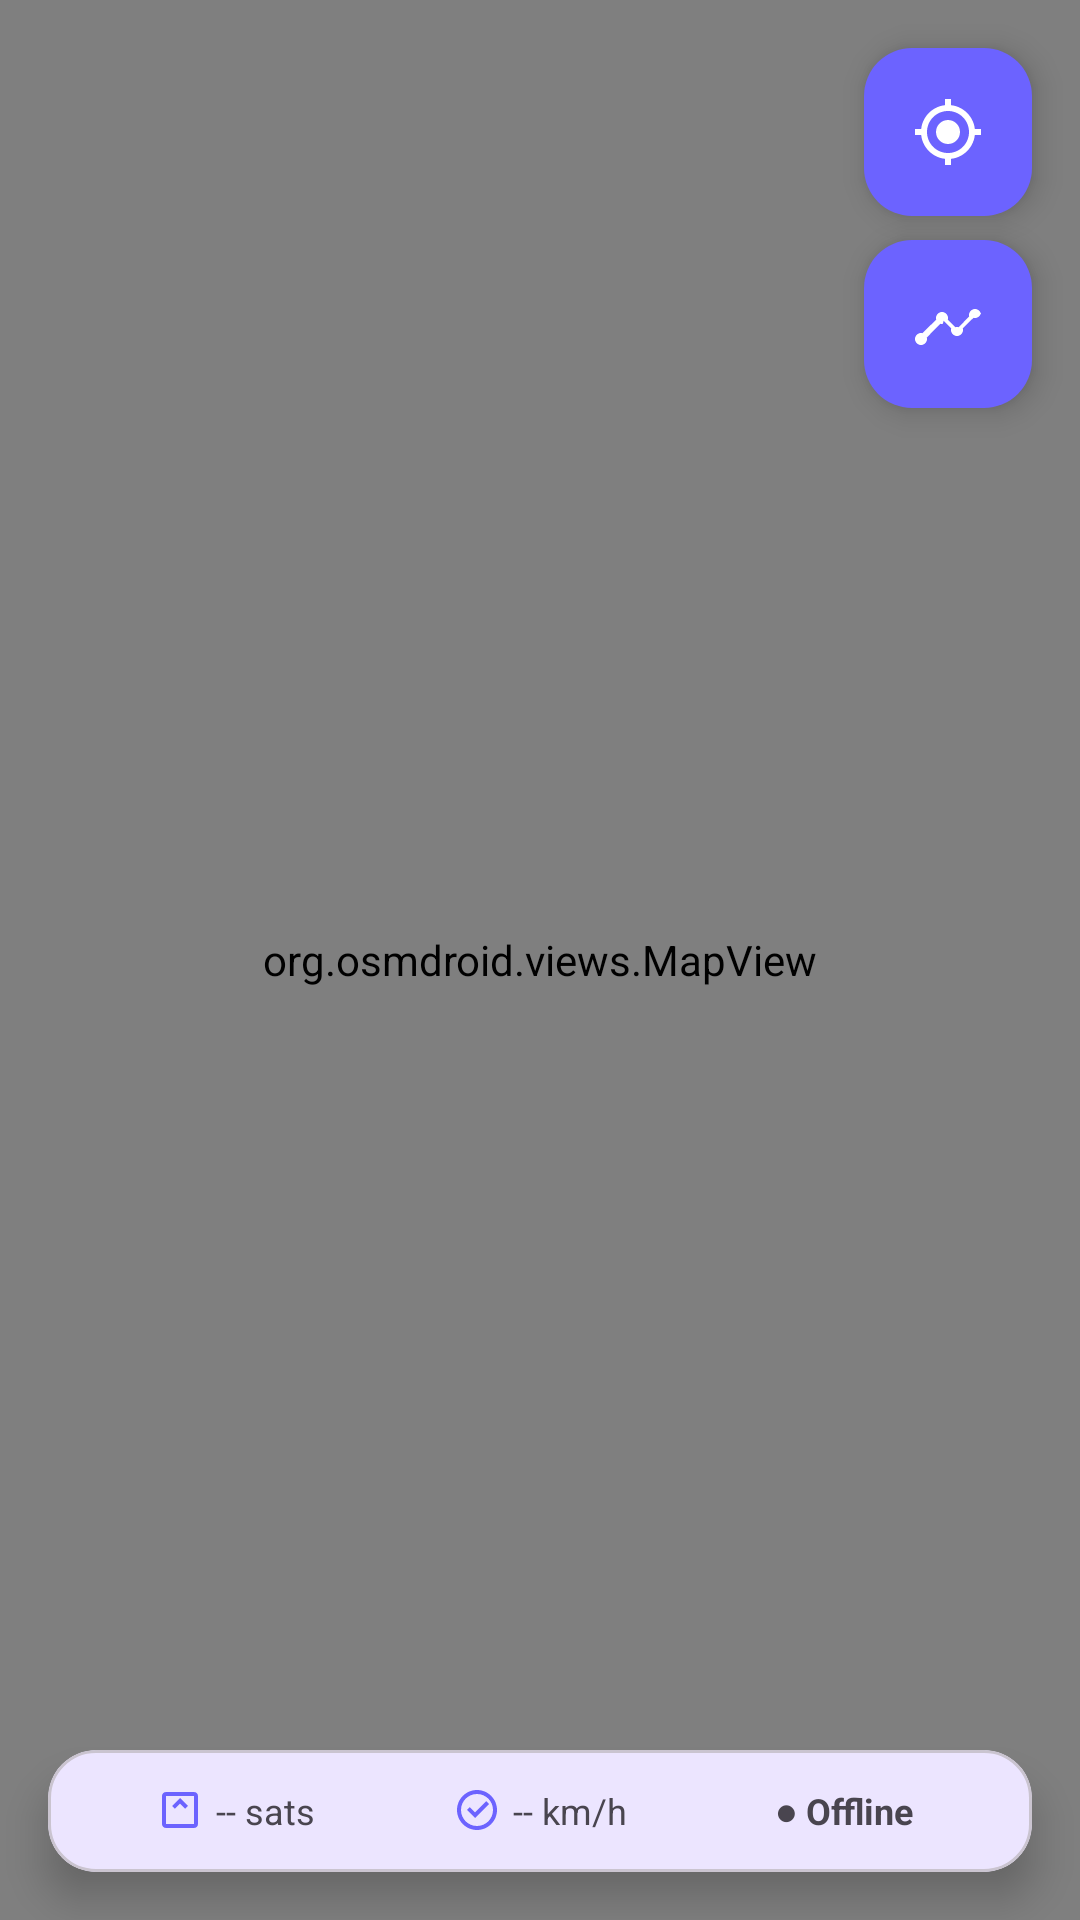

Screen size 1080*1920. Icon name, then its box in pixels as box=[x1, y1, x2, y2]:
location: box=[864, 48, 1032, 216]
timeline: box=[864, 240, 1032, 408]
